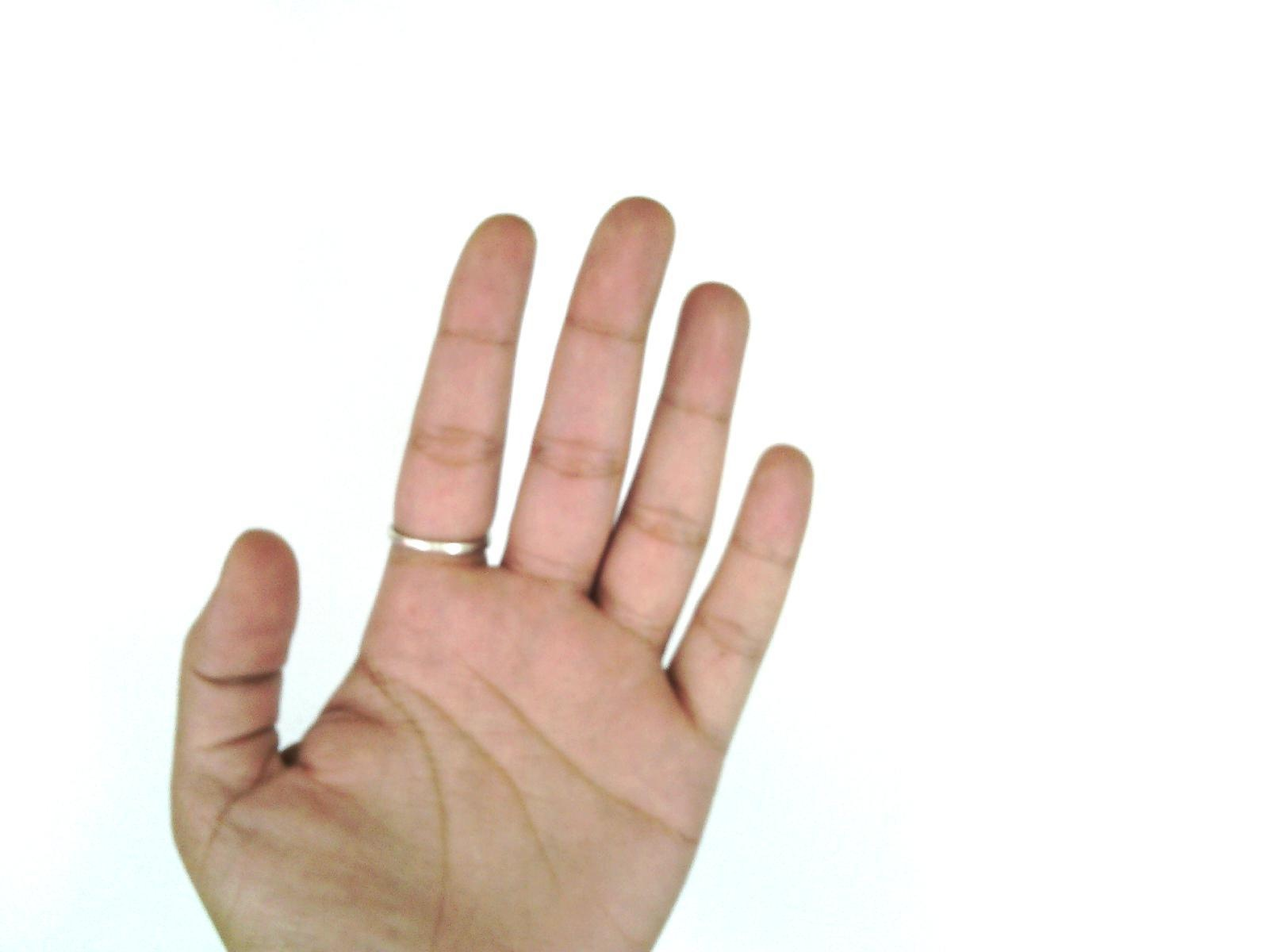open_palm: (167, 195, 818, 952)
